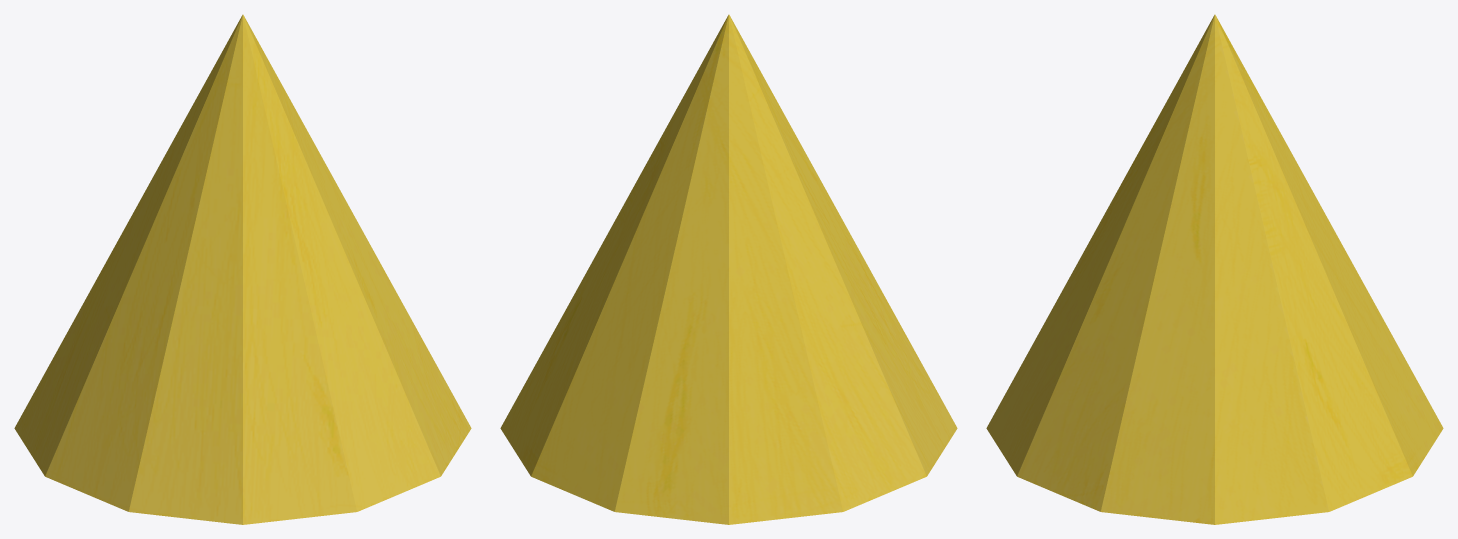
File: ConeBlock_Yellow.fbx
3 renders of one model, left to right at view 1: azimuth 30°, elevation 25°; view 2: azimuth 150°, elevation 25°; view 3: azimuth 270°, elevation 25°, orthographic.
Visible parts, largest first — view 1: Cone.004; view 2: Cone.004; view 3: Cone.004.
Boxes of the visible parts, box(x1,y1,x2,y2) form: Cone.004: box(14, 14, 471, 524); Cone.004: box(500, 14, 957, 524); Cone.004: box(986, 14, 1443, 524).
Size of the model in its own units: 100 by 100 by 100.
